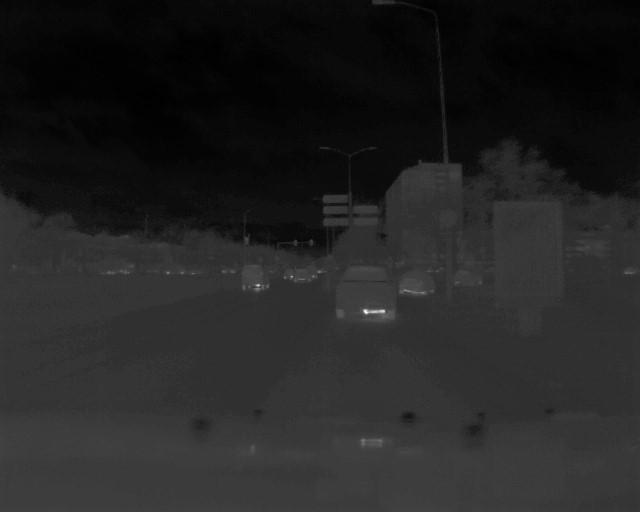car: (332, 264, 399, 321), (396, 269, 438, 296), (238, 261, 273, 293)
